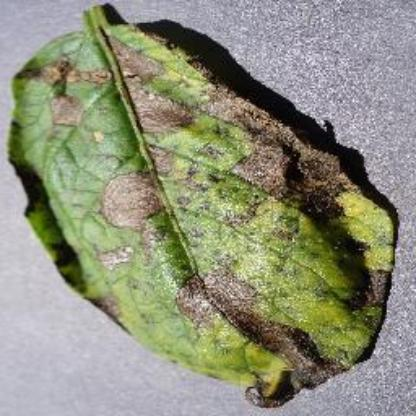Early-Blight: (8, 7, 398, 407)
